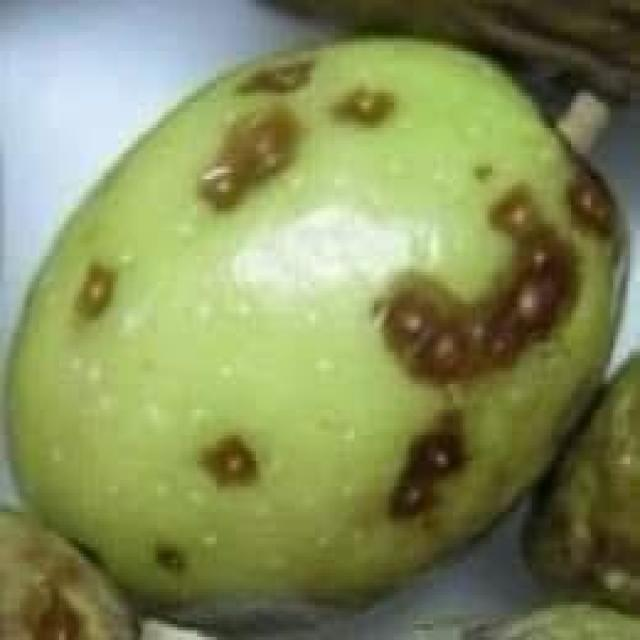Olive Fruit Fly: (7, 35, 623, 621)
